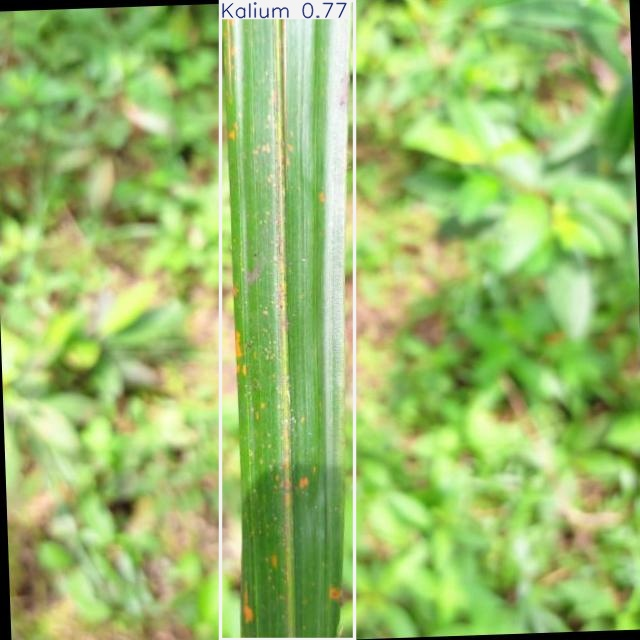Kalium: (221, 0, 354, 640)
